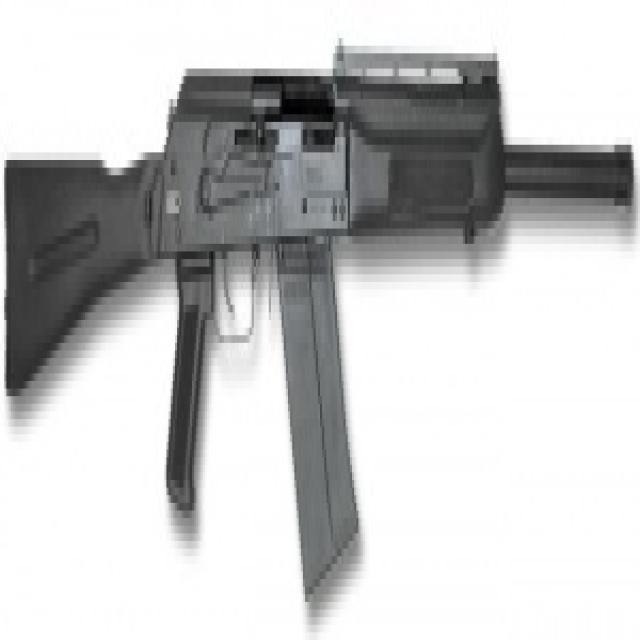rifle: (1, 18, 640, 614)
